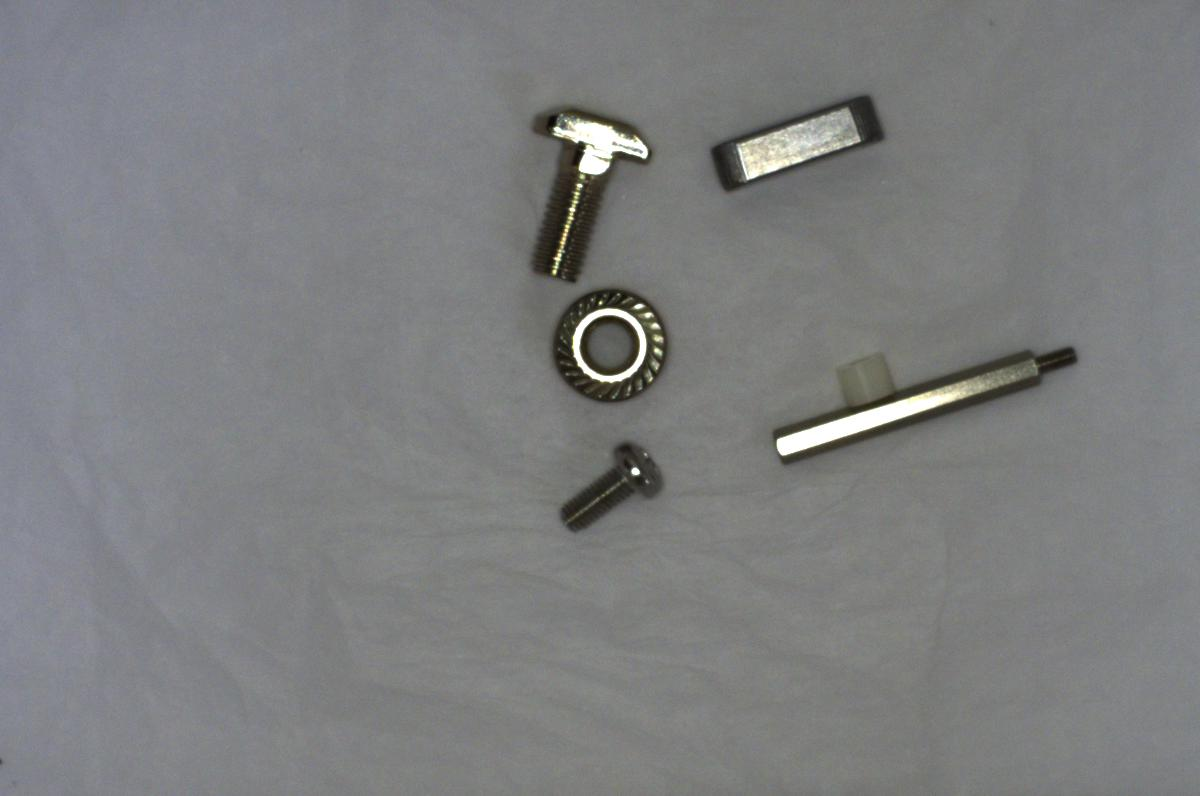Flange nut: (543, 276, 683, 408)
Hexagonal steel column: (757, 332, 1091, 474)
Keybar: (706, 80, 894, 205)
Plastic cushion pillar: (821, 341, 902, 410)
Round head screw: (547, 431, 671, 541)
T-shaped screw: (510, 95, 664, 283)
